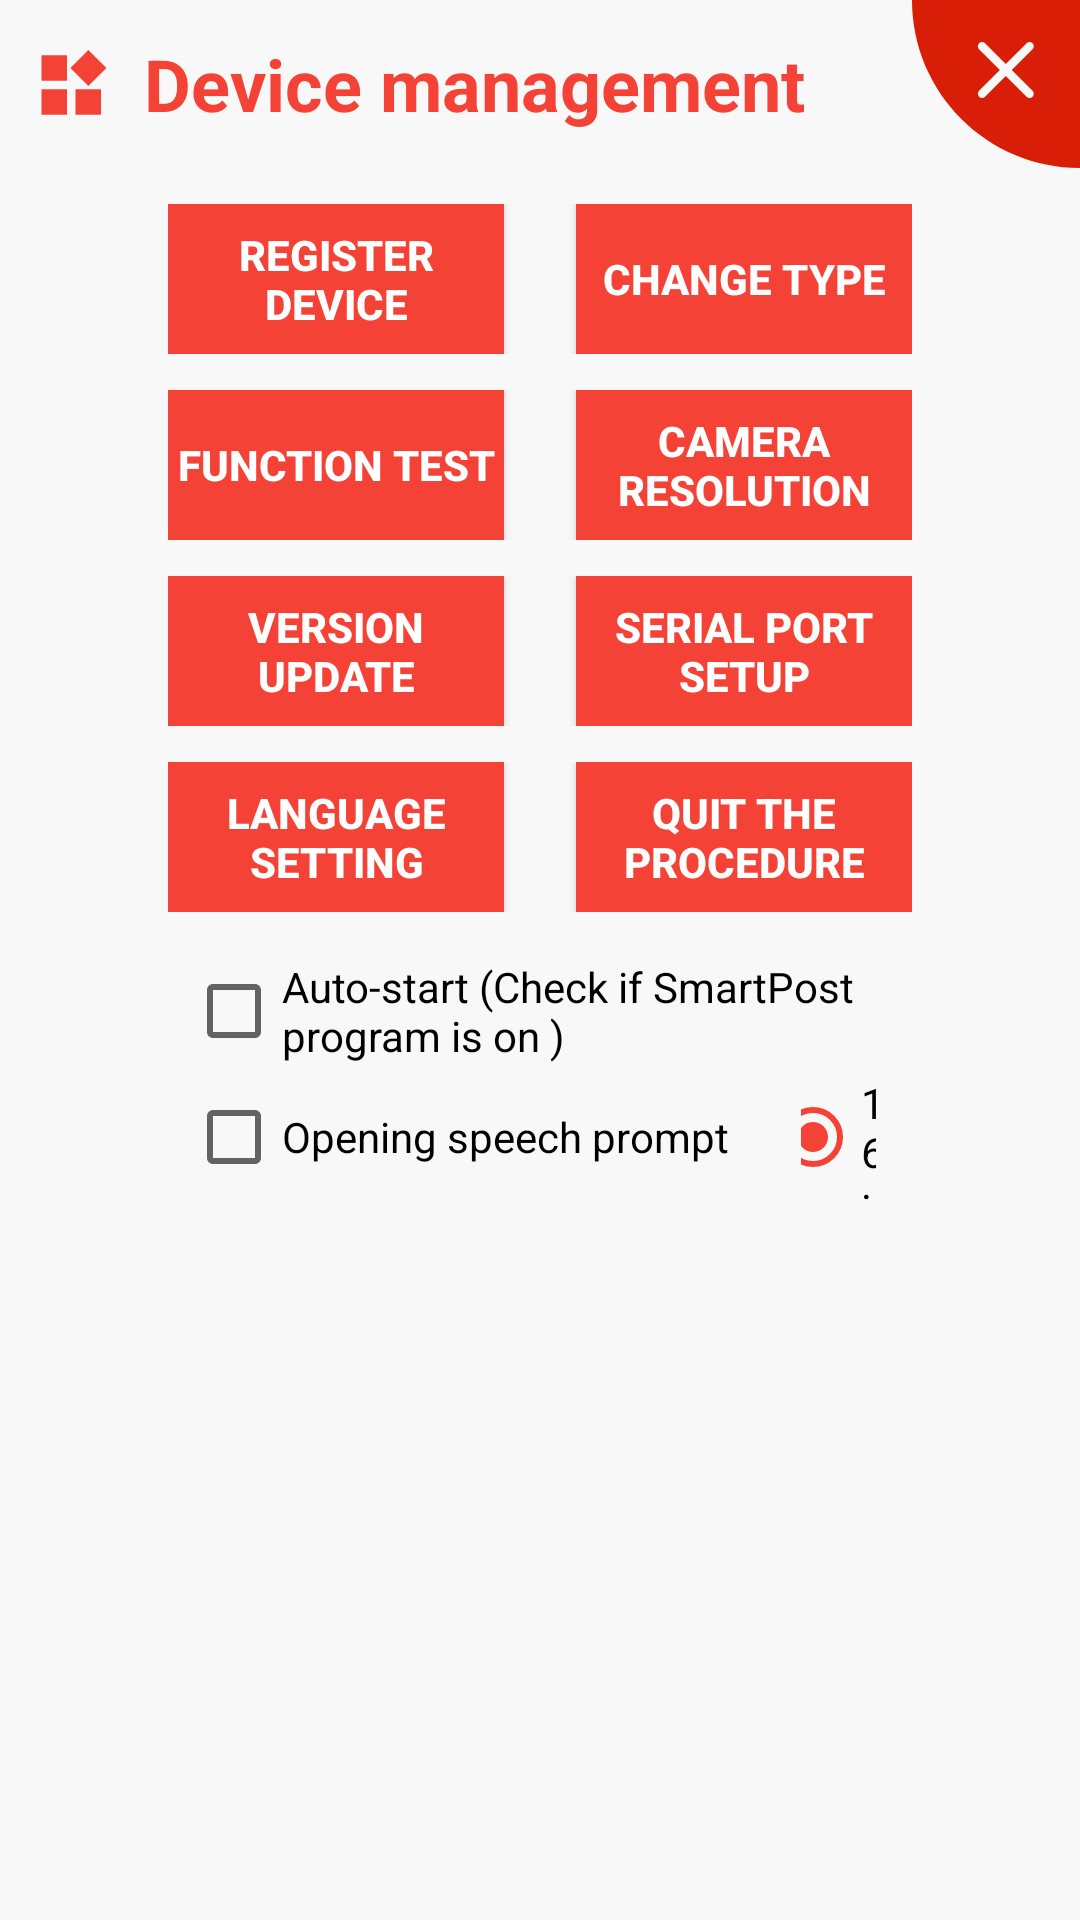

Named icons in this screenshot (1080 × 1920) and their centers, (x=x, y=y):
close: (x=996, y=84)
